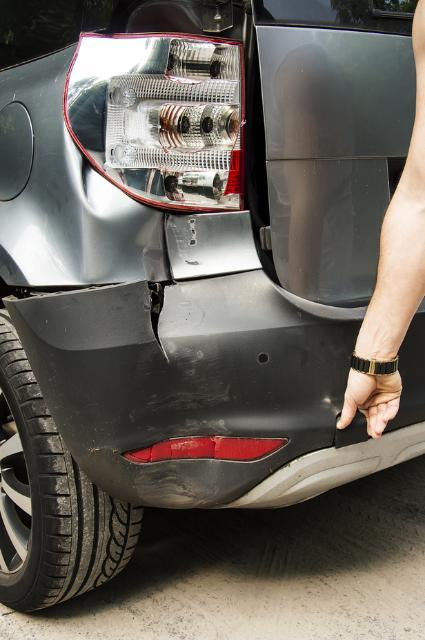Bumper: (10, 277, 392, 504)
Fender: (6, 159, 154, 292)
Light: (73, 32, 265, 208)
